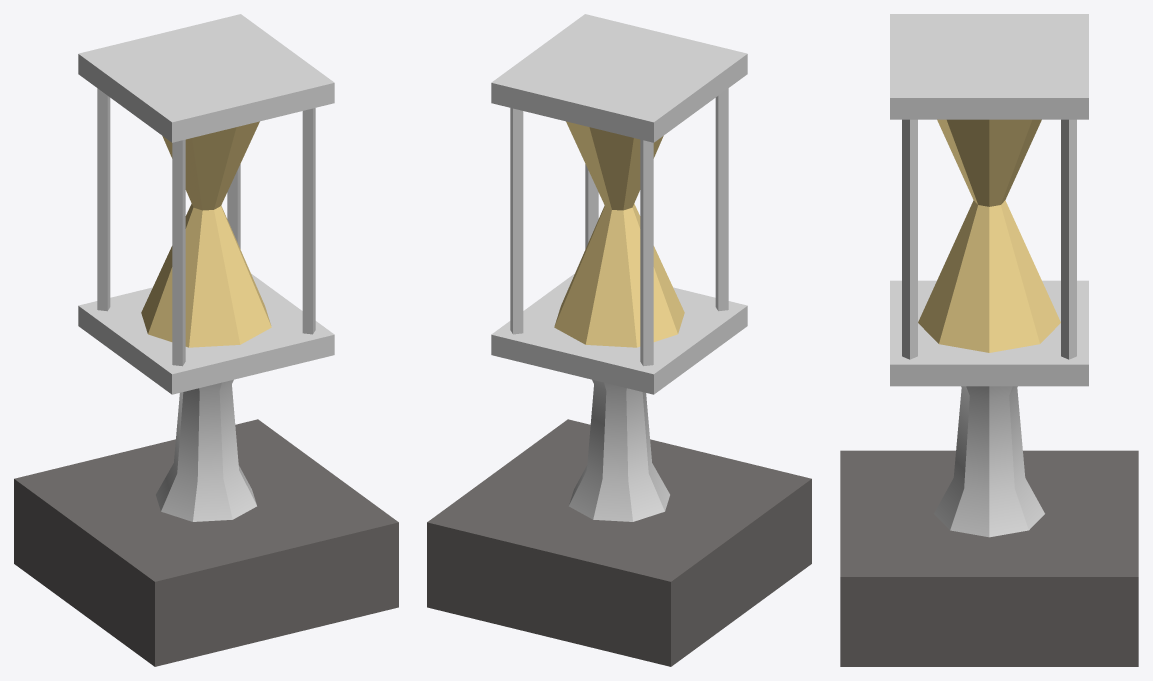
Rendered from trophy_u7.gltf.
3 renders of one model, left to right at view 1: azimuth 30°, elevation 25°; view 2: azimuth 150°, elevation 25°; view 3: azimuth 270°, elevation 25°, orthographic. The views are drawn at different scales.
Parts seen in each view (by area): view 1: Body; view 2: Body; view 3: Body.
Boxes of the visible parts, box(x1,y1,x2,y2) form: Body: box(14, 14, 398, 666); Body: box(427, 14, 811, 666); Body: box(840, 14, 1138, 666).
Bounding box in the file's own units: 0.075 × 0.152 × 0.075.
